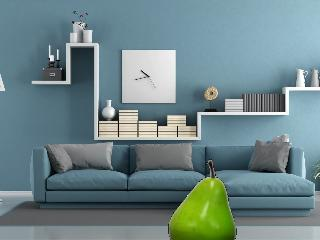pear: (168, 160, 237, 240)
